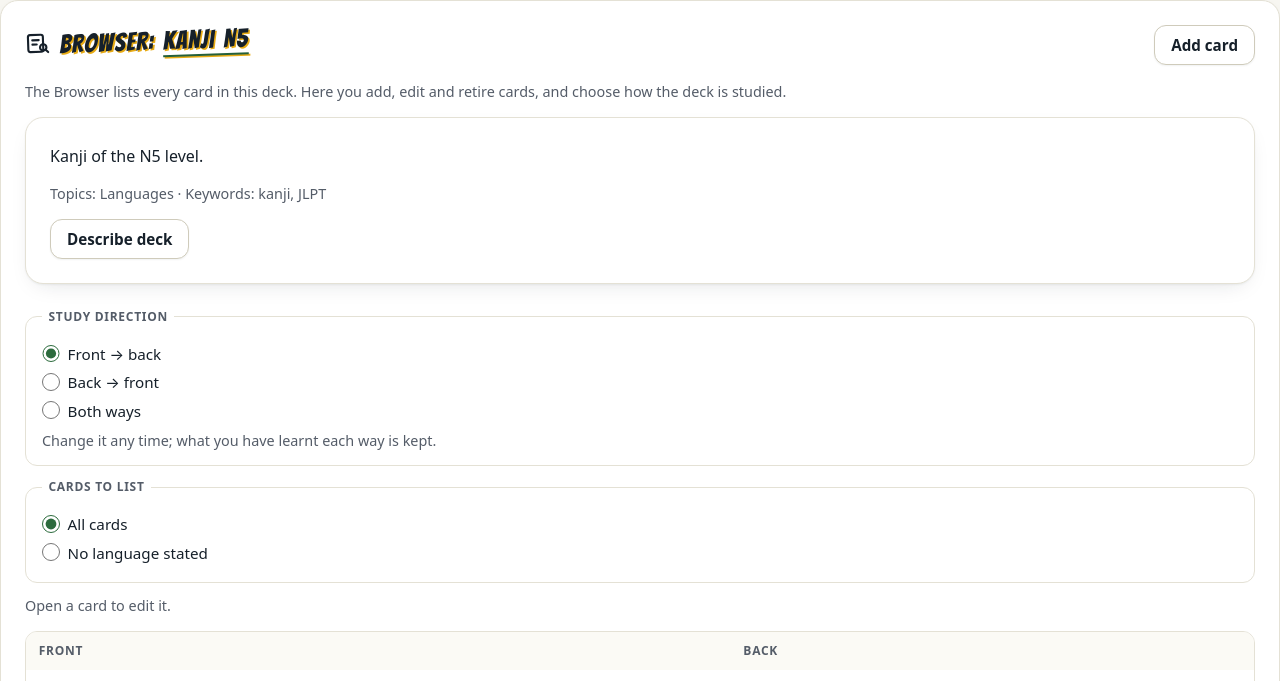
Test case: BrowserScreen deck editing › shows what the deck says about itself, and describes it anew
The image size is (1280, 681).
expect the element named "About this deck" shows "Kanji of the N5 level.": met, box [50, 145, 203, 167]
expect the element named "About this deck" shows "Topics: Languages · Keywords: kanji, JLPT": met, box [25, 117, 1255, 284]
Click the button "Describe deck": (120, 239) [50, 219, 190, 259]
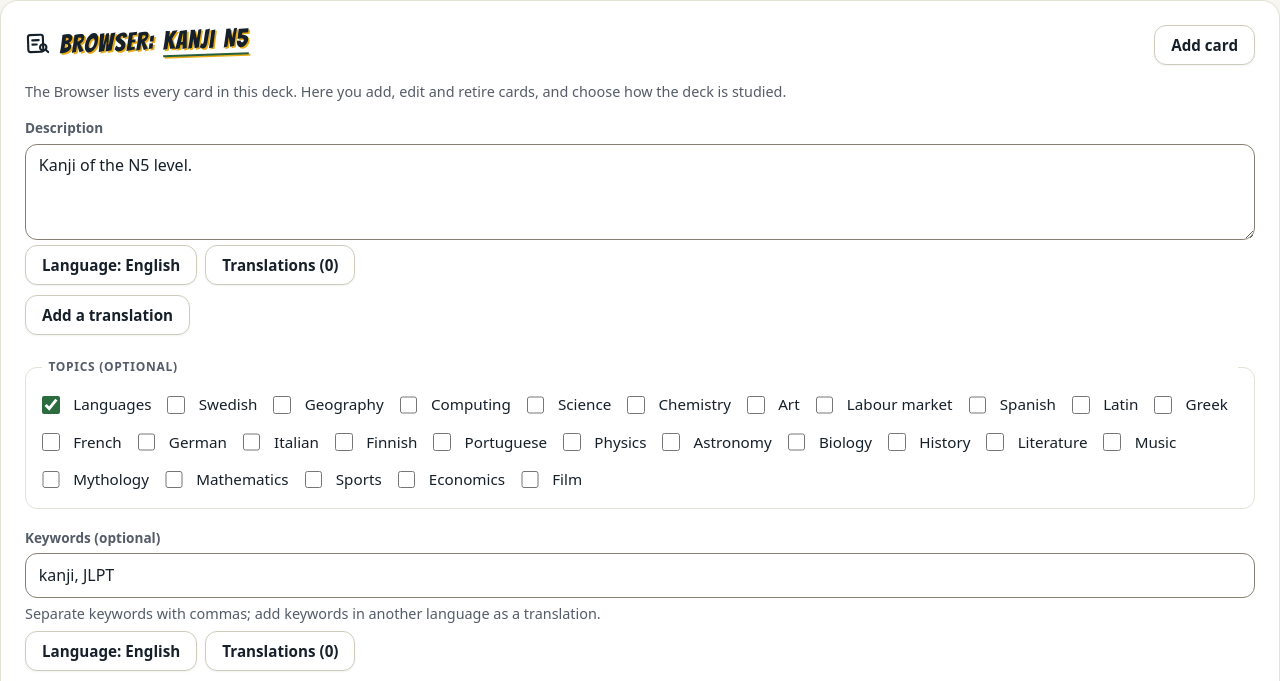
expect the text box labelled "Description" holds "Kanji of the N5 level.": met
expect the field labelled "Keywords (optional)" holds "kanji, JLPT": met, box [25, 553, 1255, 598]
expect the checkbox labelled "Languages" is checked: met, box [42, 396, 60, 414]
Replace the text in the text box labelled "Description" with "The N5 kanji.": (640, 192) [25, 144, 1255, 240]
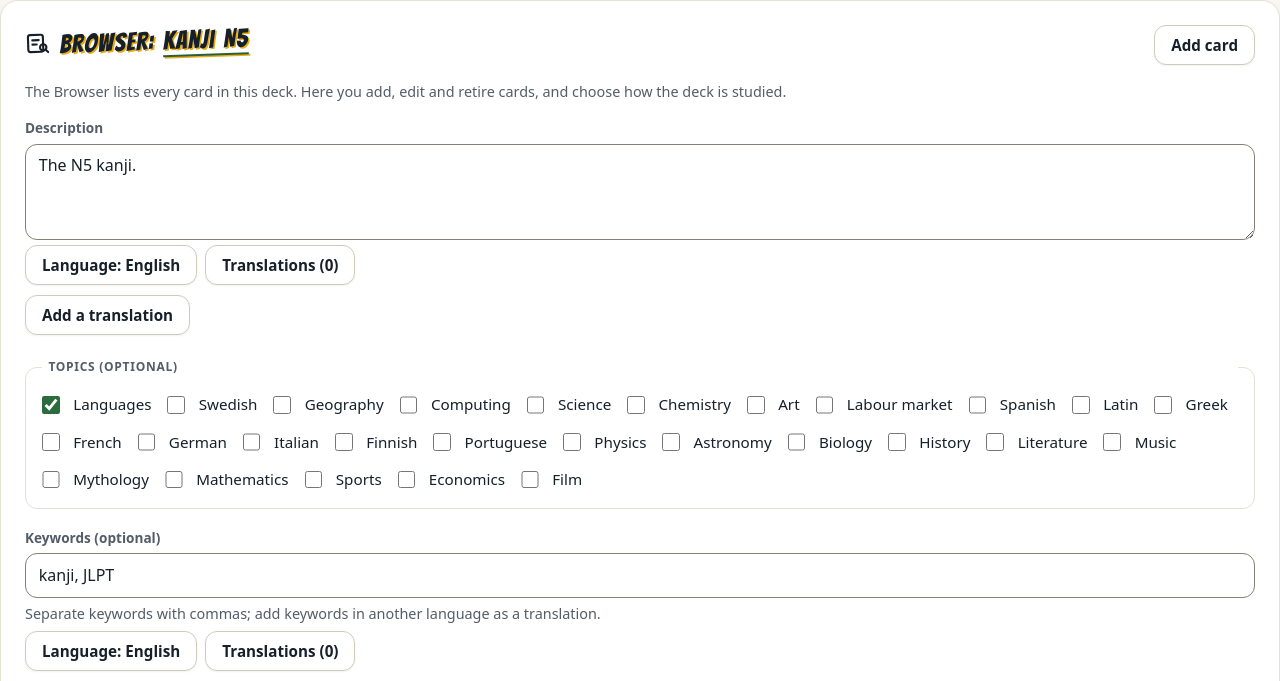
Click the checkbox labelled "Languages": (51, 405) [42, 396, 60, 414]
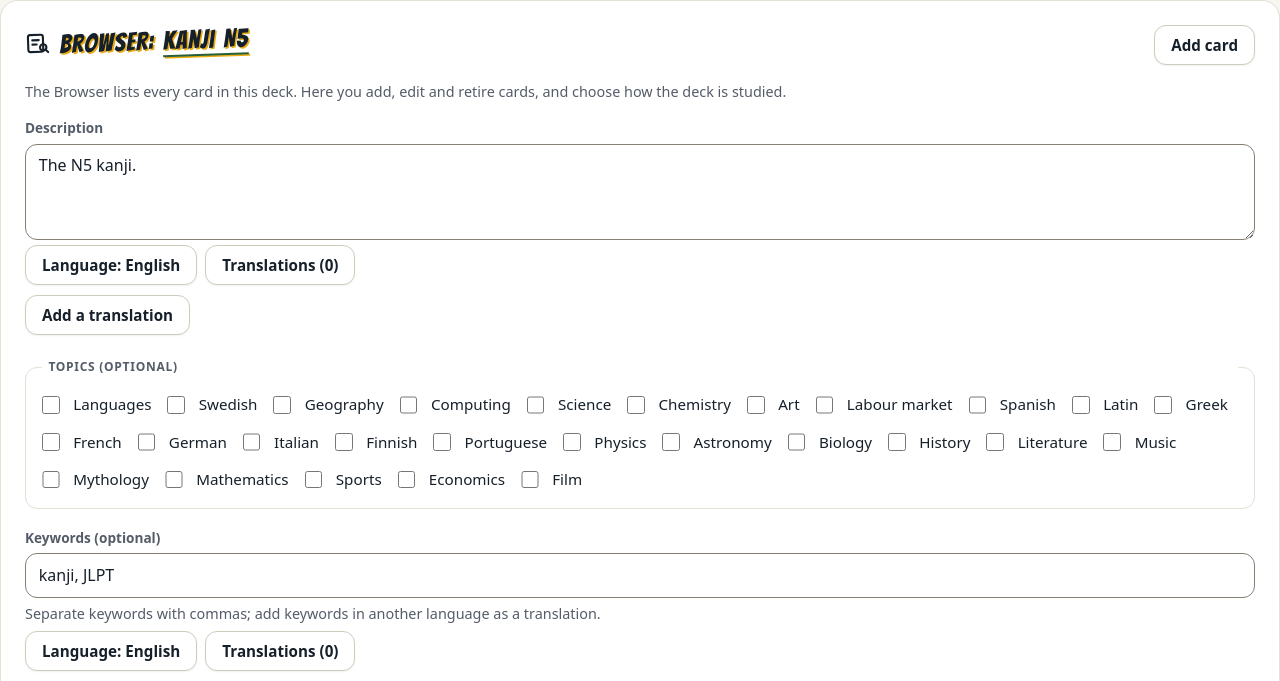
Click the checkbox labelled "Science": (536, 405) [527, 396, 544, 414]
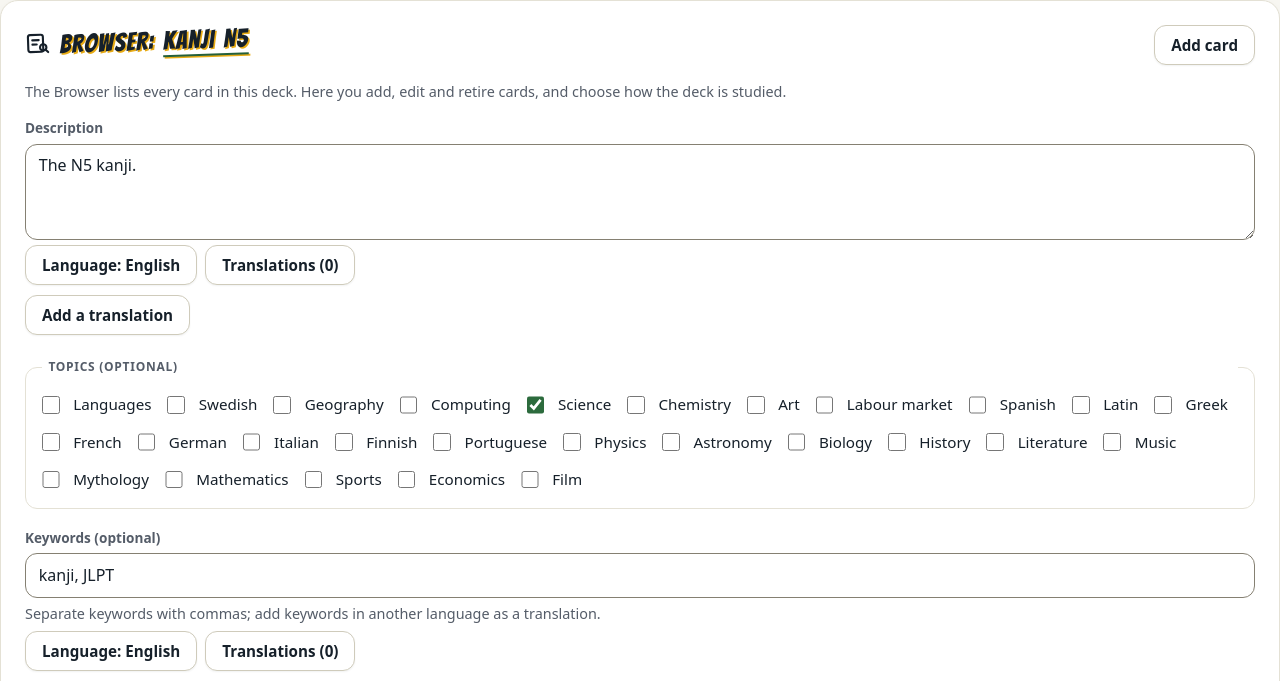
Replace the text in the field labelled "Keywords (optional)" with "kanji, , N5": (640, 576) [25, 553, 1255, 598]
(page scrolled)
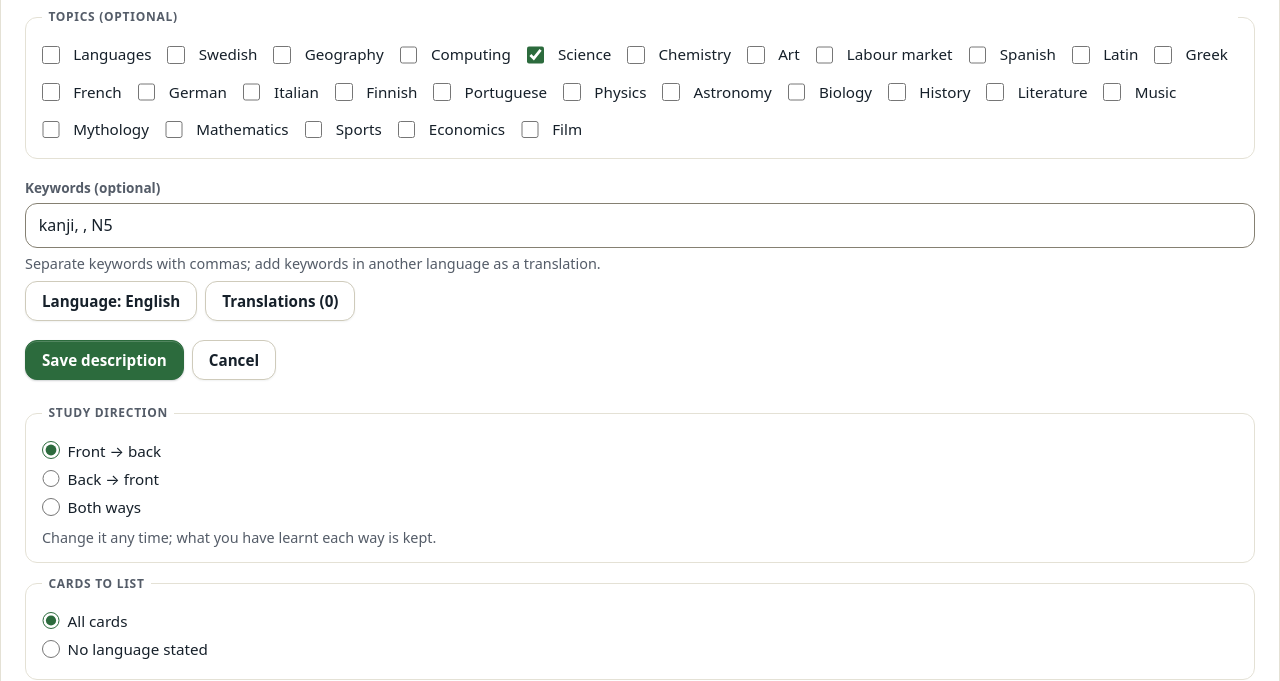
Click the button "Save description": (104, 360) [25, 340, 184, 380]
(page scrolled)
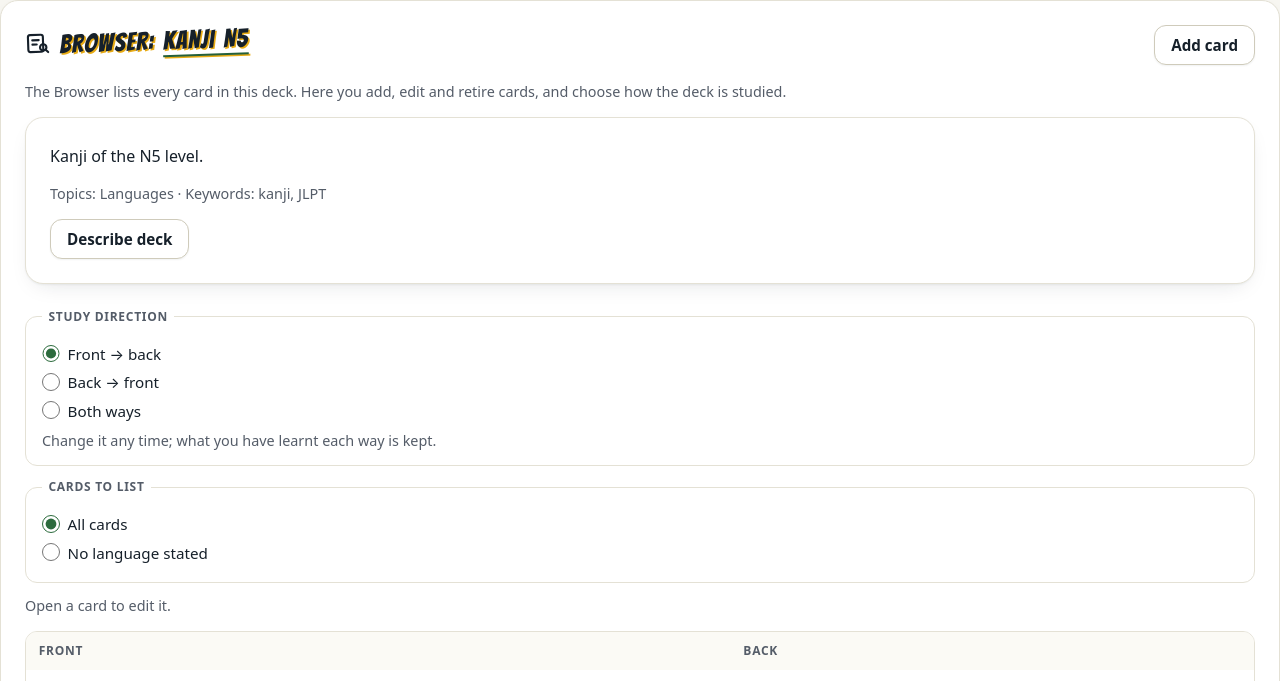
expect the button "Describe deck" is shown: met, box [50, 219, 190, 259]
